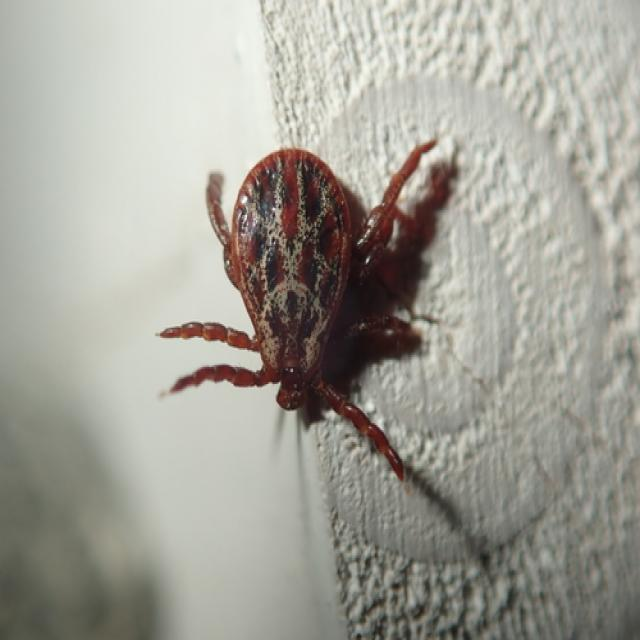Dermacentor Reticulatus-M: (157, 142, 435, 483)
